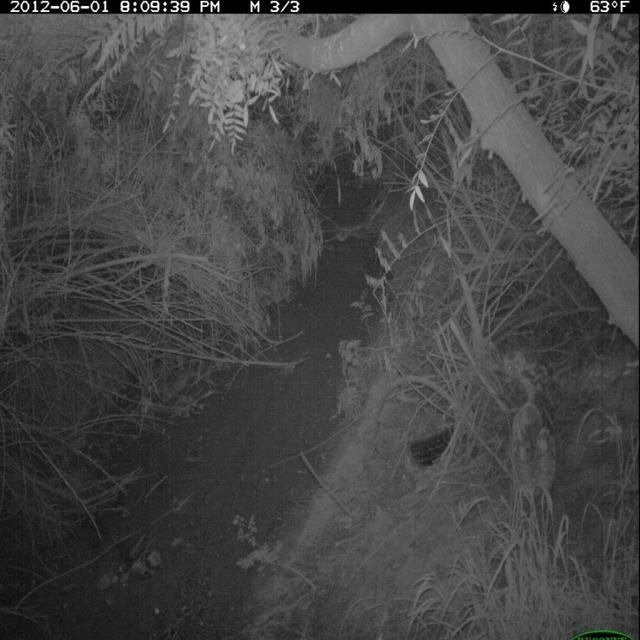bird: (489, 339, 556, 410)
